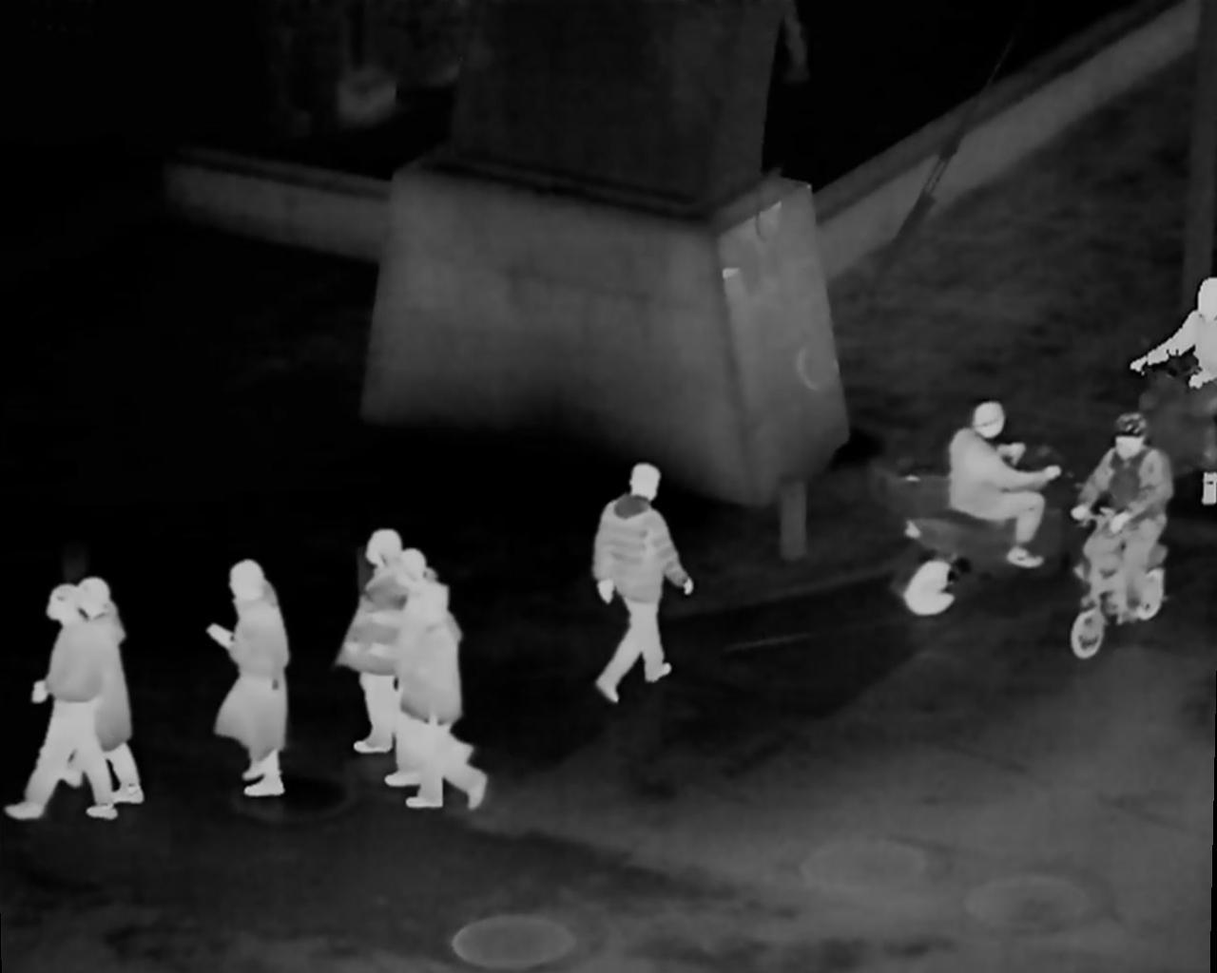person: (1047, 420, 1173, 612), (588, 467, 689, 690), (932, 407, 1057, 574), (213, 563, 293, 800), (348, 508, 421, 752), (25, 592, 92, 808), (68, 580, 133, 792), (415, 585, 476, 803), (1143, 269, 1214, 443)
